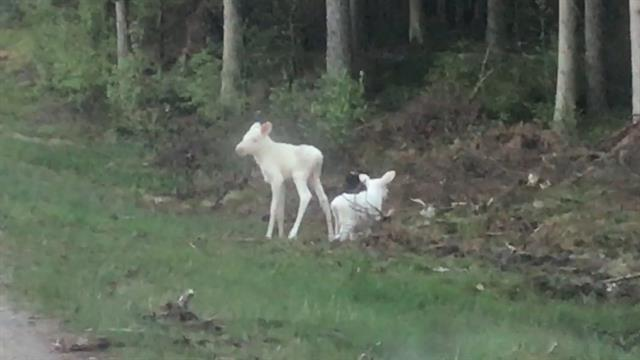moose: (235, 118, 332, 238), (334, 168, 400, 239)
